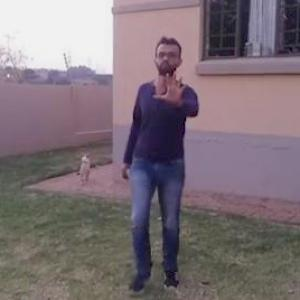follow_hand: (151, 64, 192, 109)
